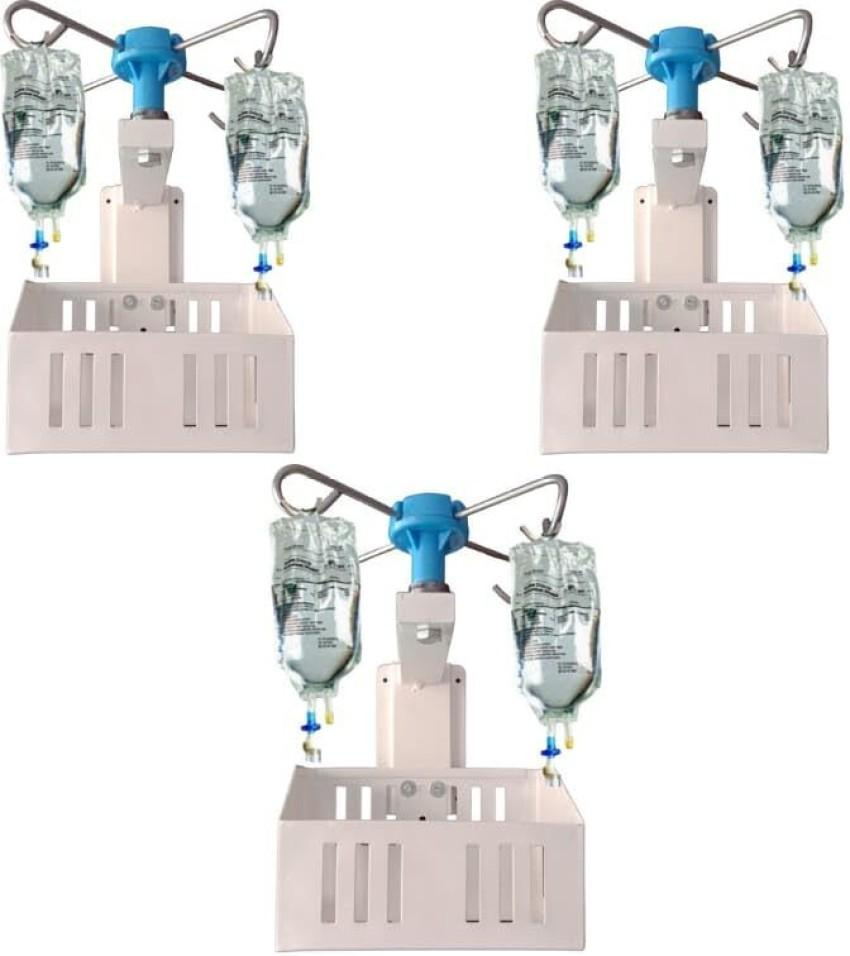Saline Stand: (267, 462, 602, 950), (516, 0, 850, 455), (1, 0, 305, 462)
